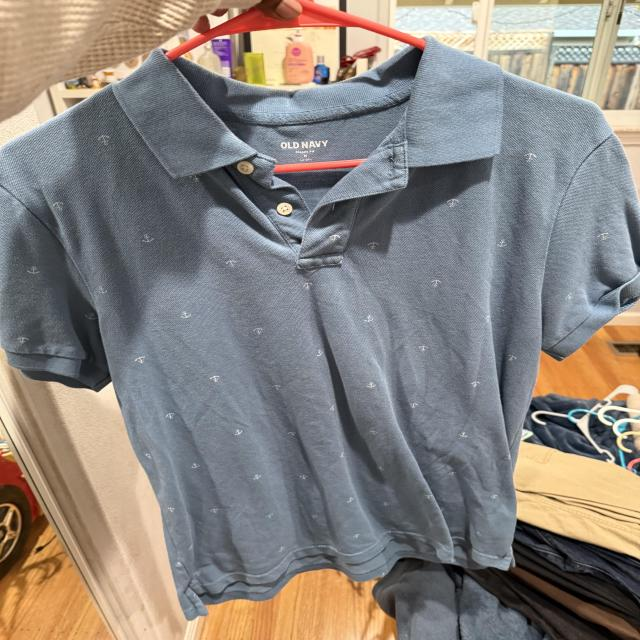back_tag: (273, 132, 344, 164)
